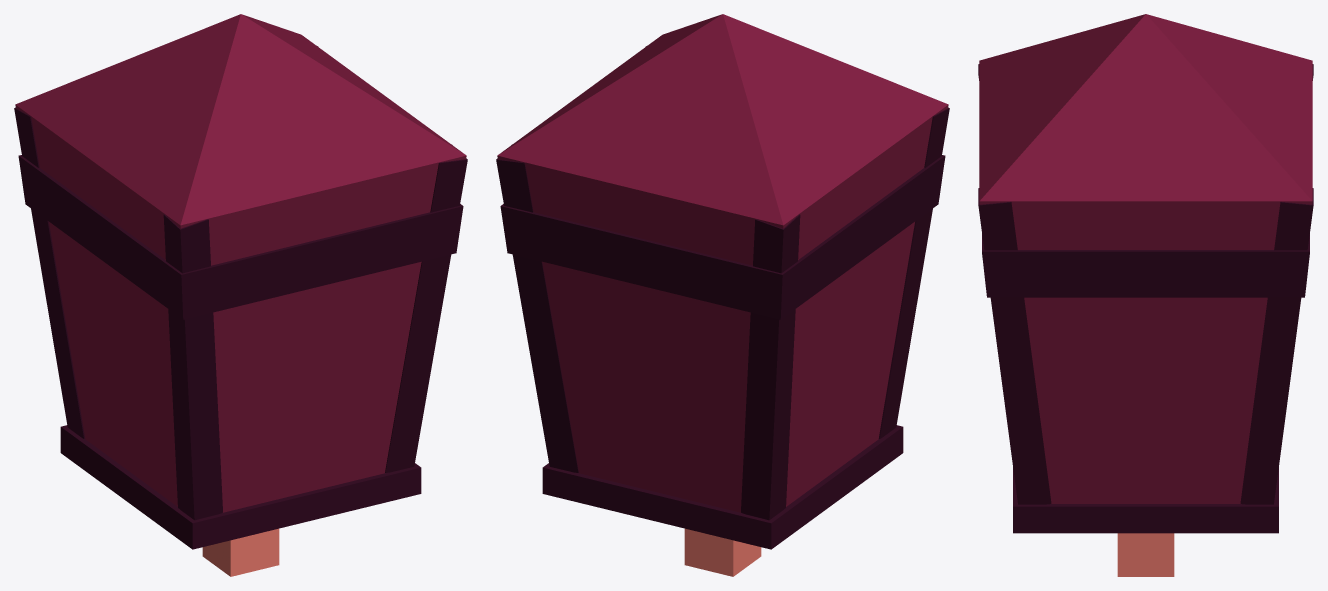
Rendered from lantern.glb.
3 renders of one model, left to right at view 1: azimuth 30°, elevation 25°; view 2: azimuth 150°, elevation 25°; view 3: azimuth 270°, elevation 25°, orthographic.
Visible parts, largest first — view 1: Lantern; view 2: Lantern; view 3: Lantern.
Part boxes in pixels (x1,y1,x2,y2): Lantern: (14, 14, 467, 576); Lantern: (496, 14, 949, 576); Lantern: (978, 14, 1313, 576).
Bounding box in the file's own units: 0.5041 × 0.914 × 0.5039.
